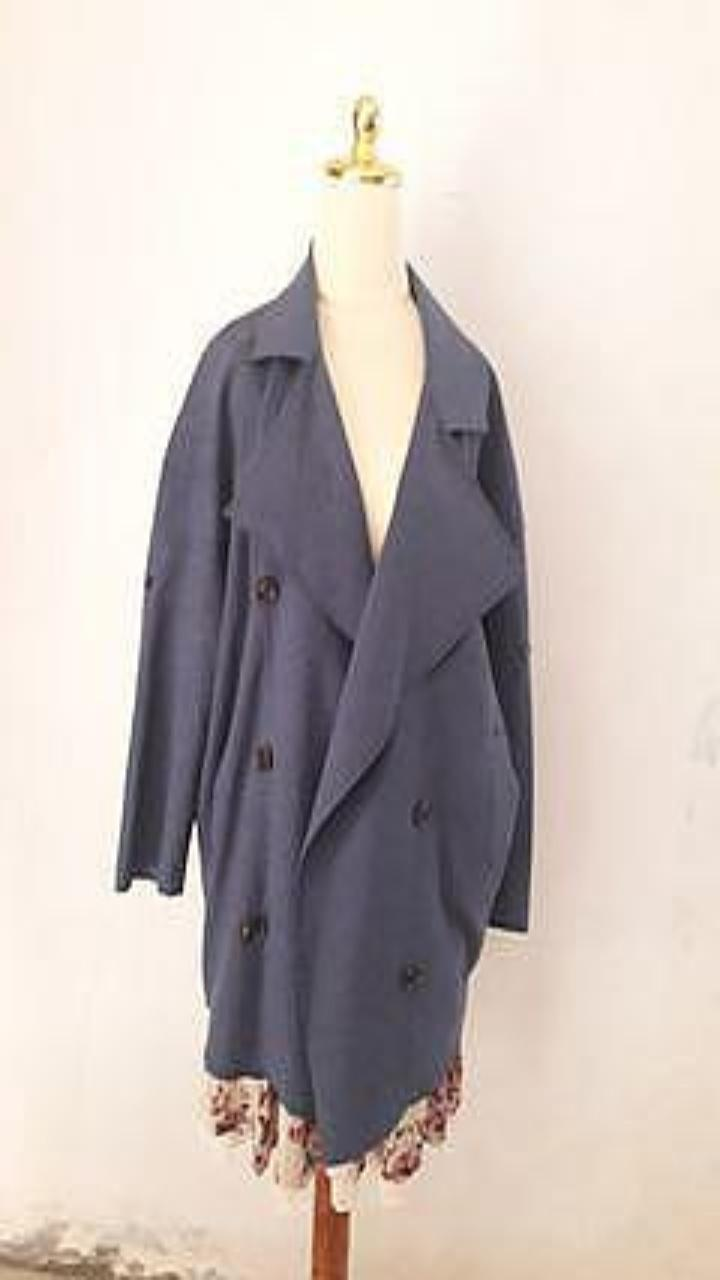Coat: (115, 241, 532, 1163)
